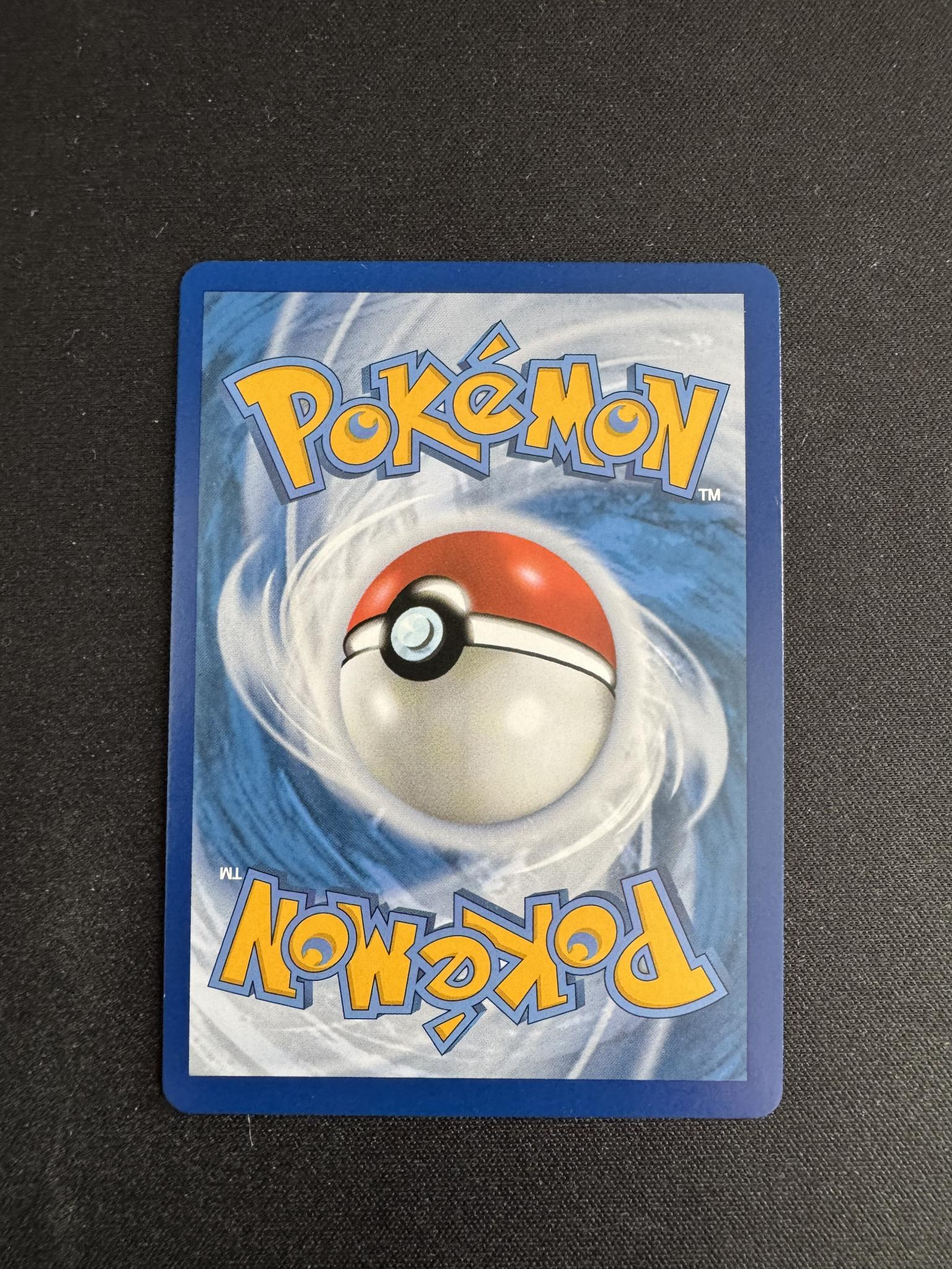card-2UtV: (162, 260, 784, 1118)
